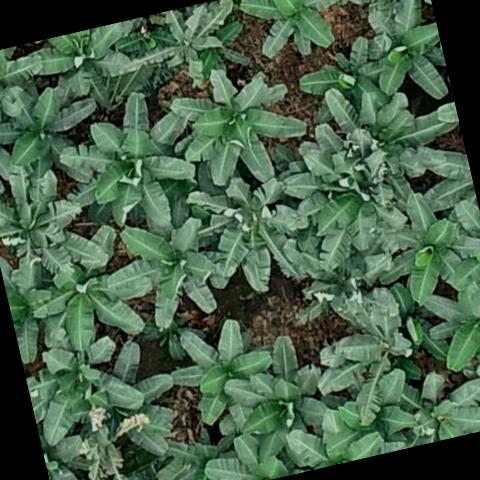Banana-plant: (54, 85, 204, 236), (308, 65, 470, 200), (164, 54, 312, 188), (217, 328, 344, 466), (186, 167, 313, 305), (303, 285, 425, 428), (94, 210, 226, 339), (20, 224, 142, 359), (161, 309, 286, 434), (21, 329, 150, 447), (282, 154, 404, 272), (374, 178, 480, 302), (0, 154, 96, 284), (23, 19, 148, 117), (0, 73, 107, 179), (349, 0, 452, 110), (135, 0, 246, 86), (292, 33, 396, 123), (0, 245, 68, 368), (239, 0, 358, 68), (380, 371, 480, 451), (417, 267, 480, 382), (0, 41, 52, 142)
